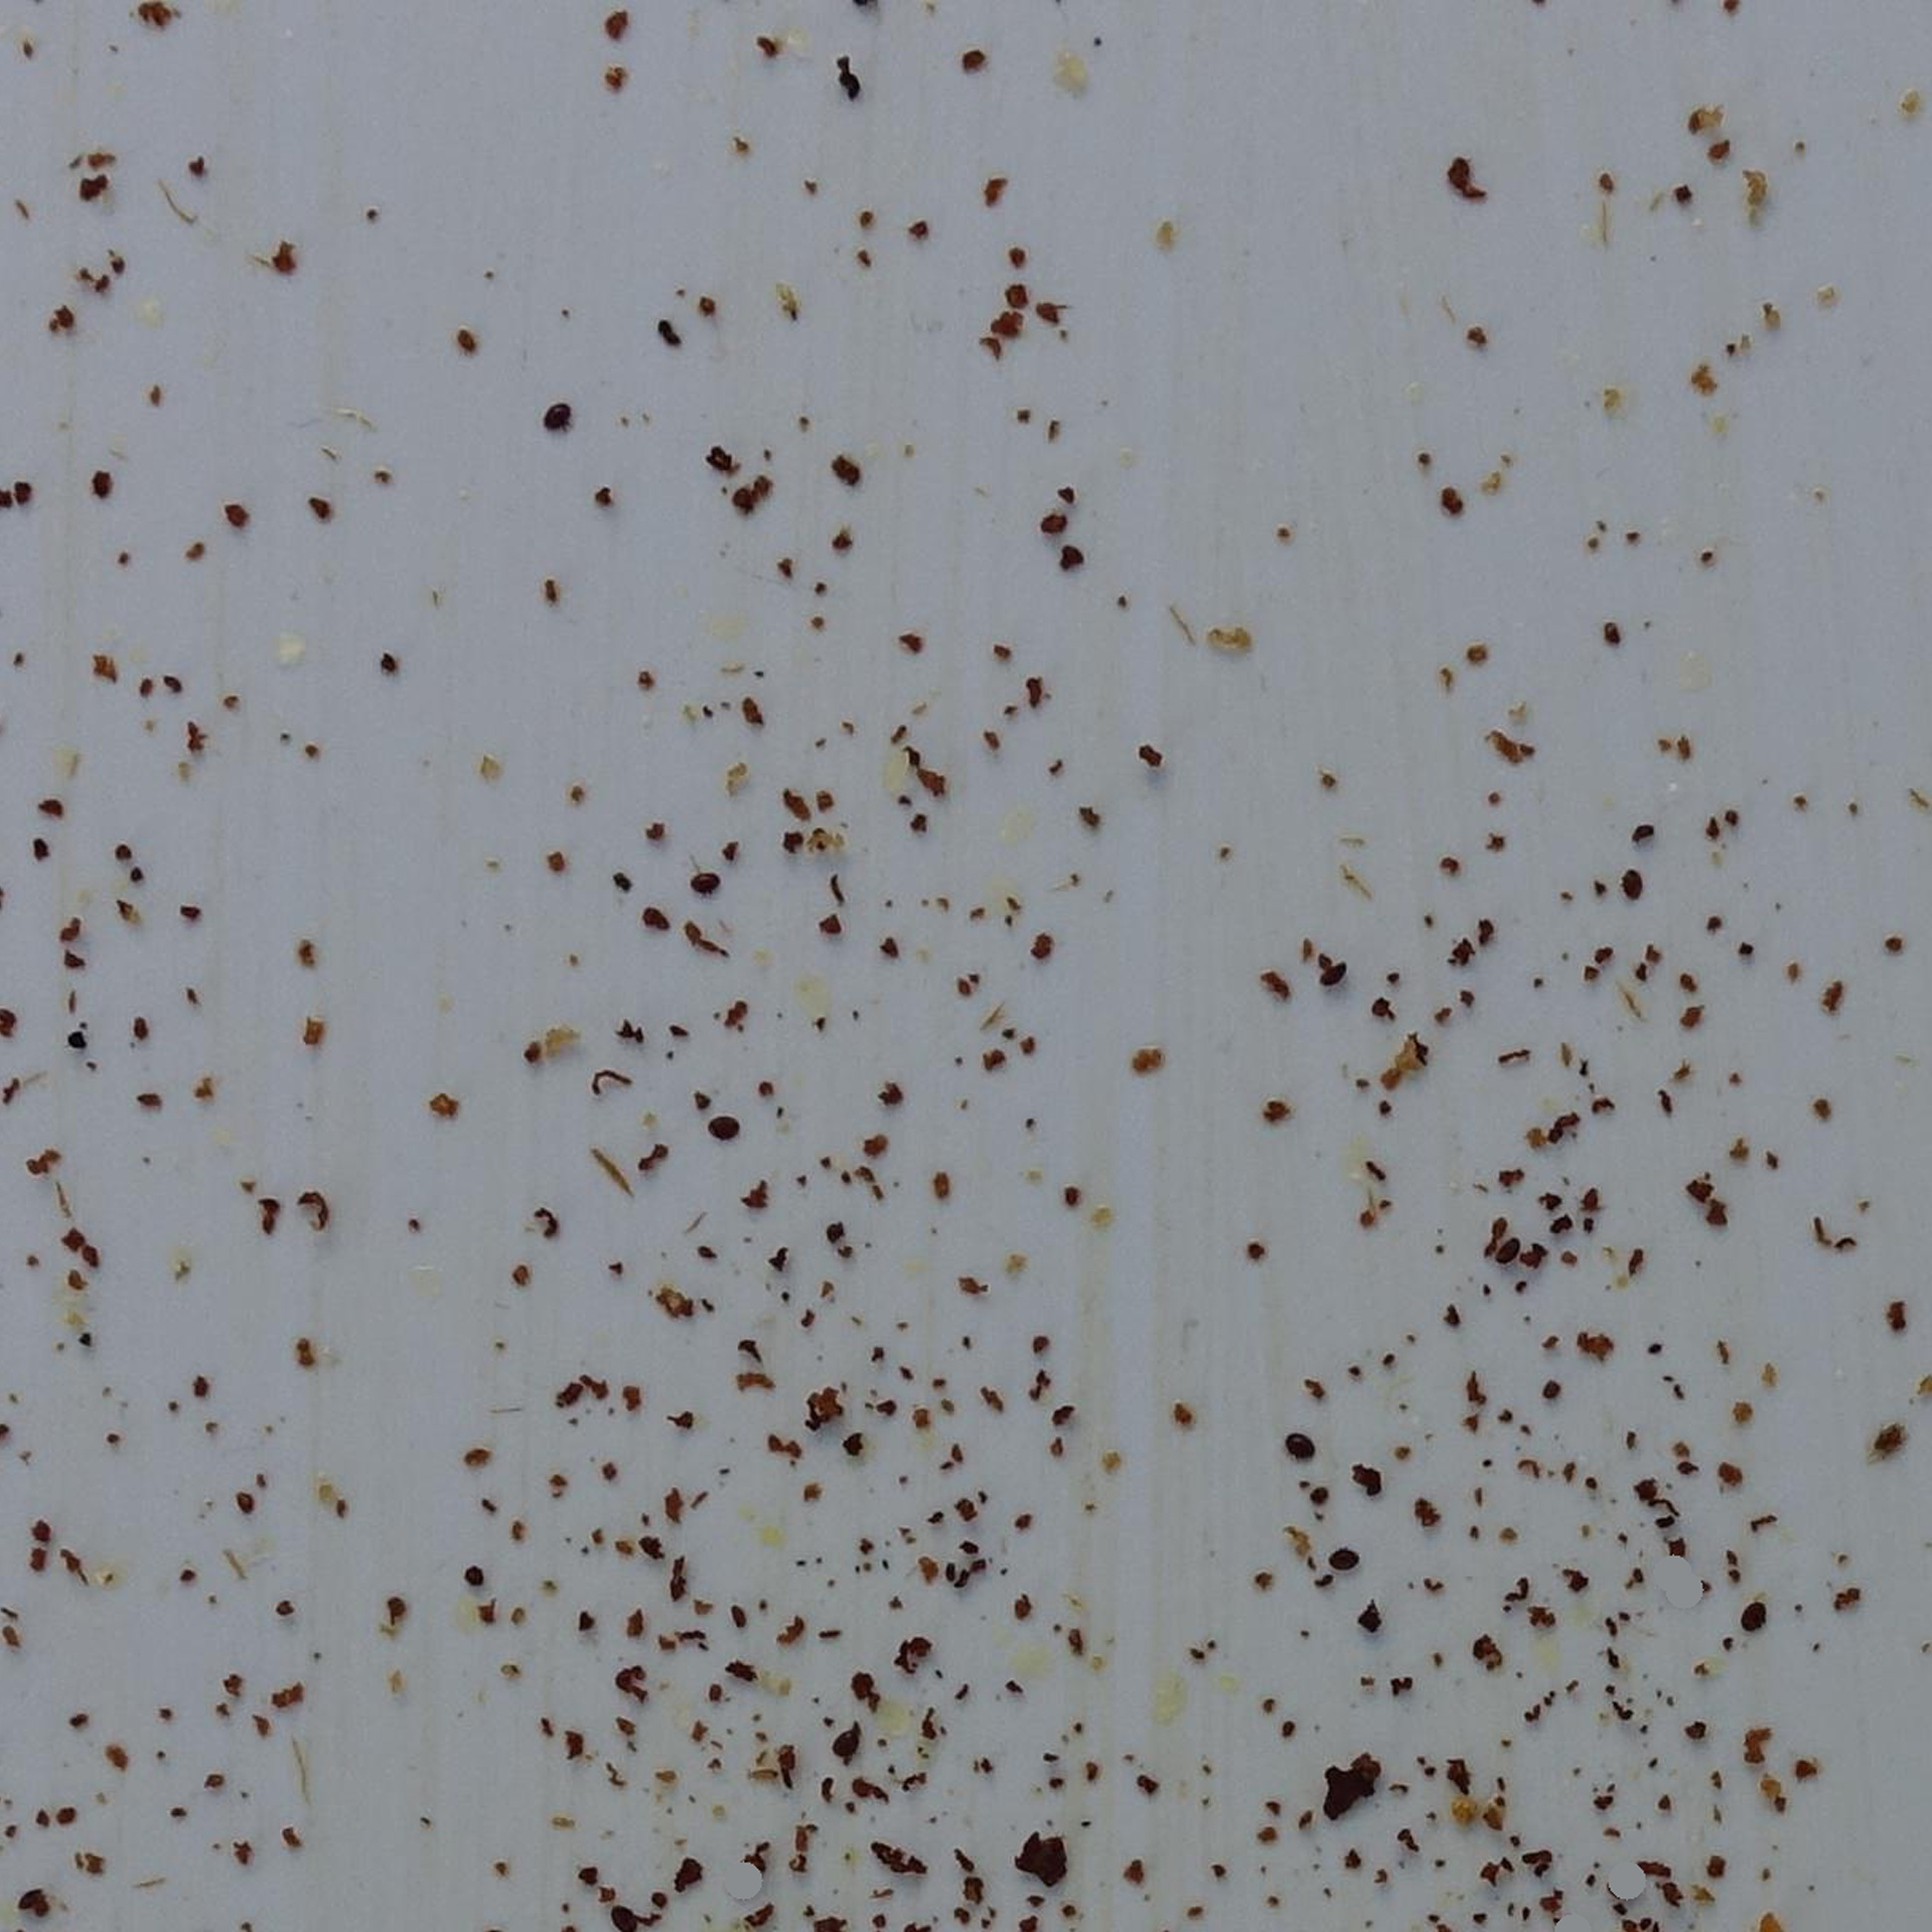Varroa: (7, 1875, 51, 1920), (709, 1116, 734, 1143), (1491, 1238, 1516, 1261), (694, 870, 717, 893), (1293, 1437, 1315, 1460), (833, 1729, 855, 1752), (1322, 954, 1345, 975), (1744, 1601, 1766, 1622), (1329, 1541, 1348, 1562), (1622, 872, 1642, 893), (547, 405, 564, 423)
